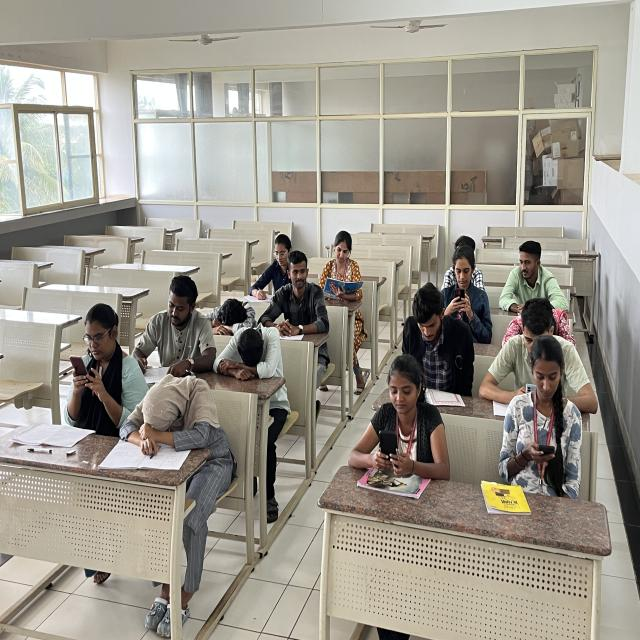Reading: (403, 293, 462, 402), (317, 230, 364, 303)
Sleeping: (120, 370, 222, 466), (219, 325, 280, 379), (204, 289, 256, 331)
Using Phone: (481, 307, 600, 411), (500, 334, 581, 480), (361, 359, 439, 479), (63, 296, 134, 426), (442, 248, 491, 338)
Writing: (130, 278, 208, 378), (247, 234, 297, 303)
